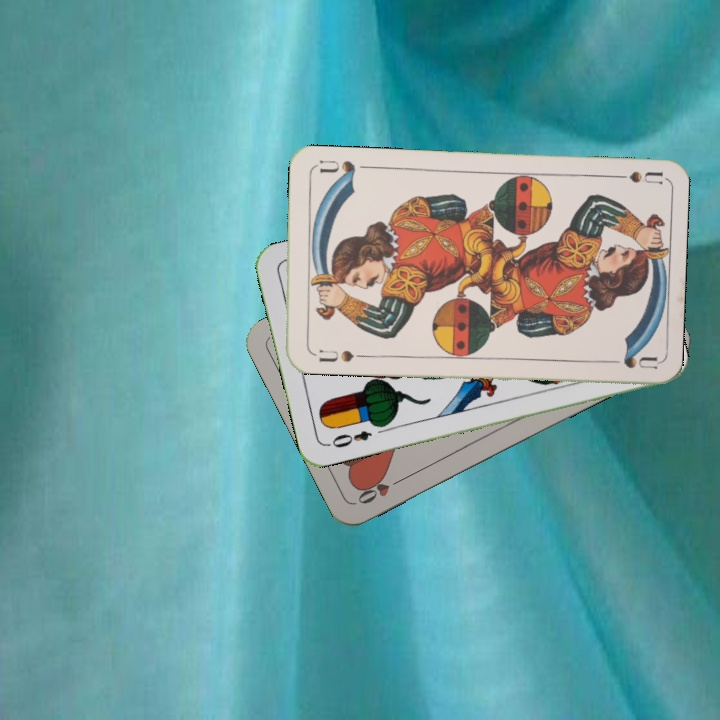EO: (323, 426, 374, 451)
HO: (353, 473, 408, 507)
SU: (604, 166, 663, 186), (315, 345, 356, 365)
